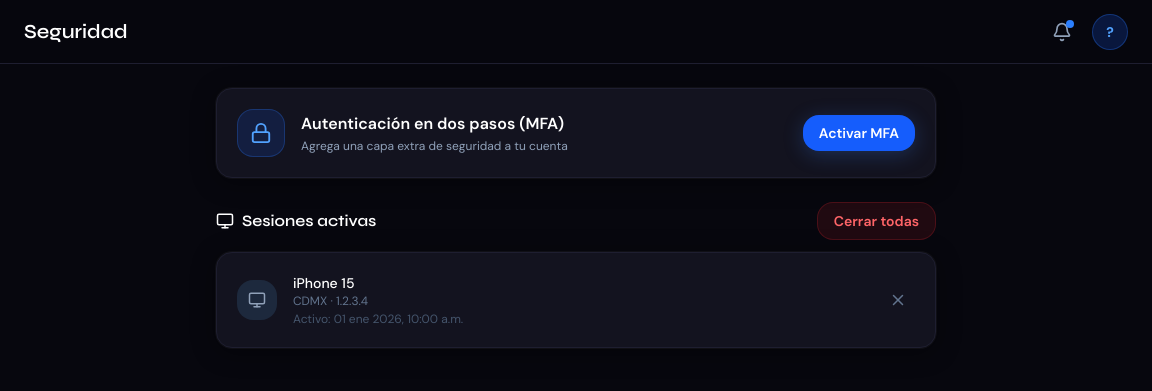
SecurityPage › "Cerrar todas" clears every session
The image size is (1152, 391).
Expected: the text "iPhone 15" is shown, [293, 274, 354, 292]
Click the button "Cerrar todas" at (876, 221), box [817, 202, 936, 240]
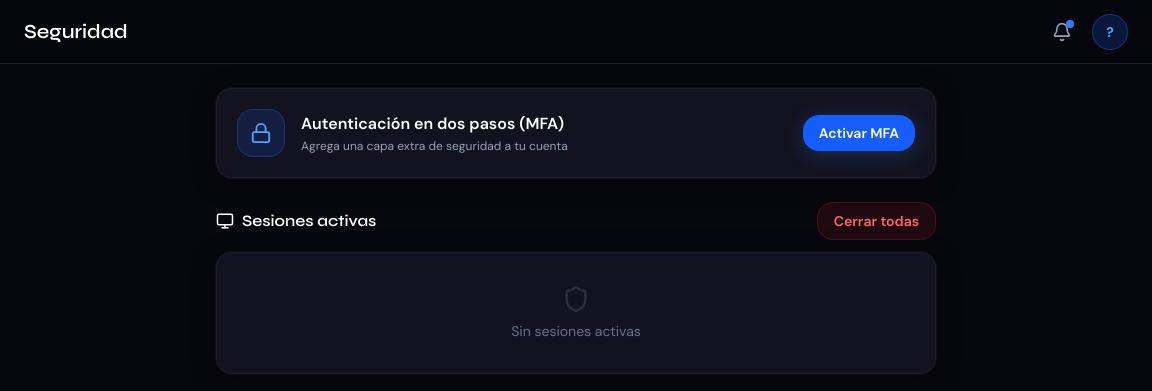
Now the text "iPhone 15" is gone
